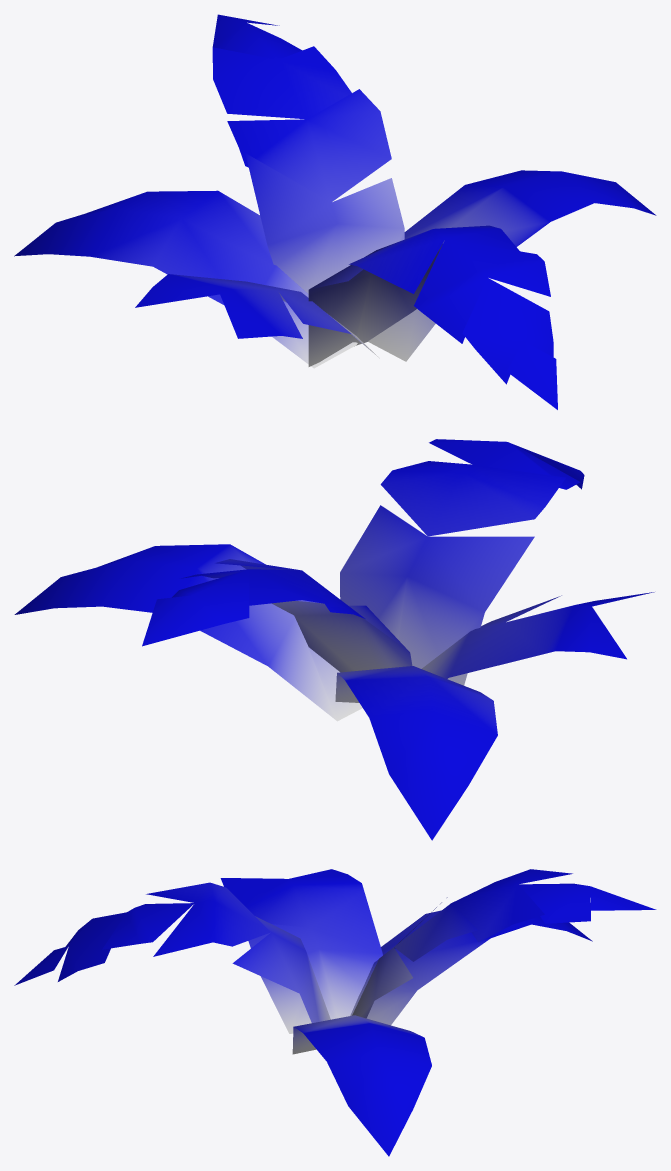
The model's file is lod_create1.fbx.
The picture shows the model from 3 angles, top to bottom: view 1: azimuth 30°, elevation 25°; view 2: azimuth 150°, elevation 25°; view 3: azimuth 270°, elevation 25°; orthographic projection. The views are drawn at different scales.
Parts seen in each view (by area): view 1: mesh_LOD0; view 2: mesh_LOD0; view 3: mesh_LOD0.
Part boxes in pixels (x1,y1,x2,y2): mesh_LOD0: (14, 14, 656, 409); mesh_LOD0: (14, 439, 654, 840); mesh_LOD0: (14, 869, 656, 1156).
Size of the model in its own units: 162 by 58.15 by 191.
